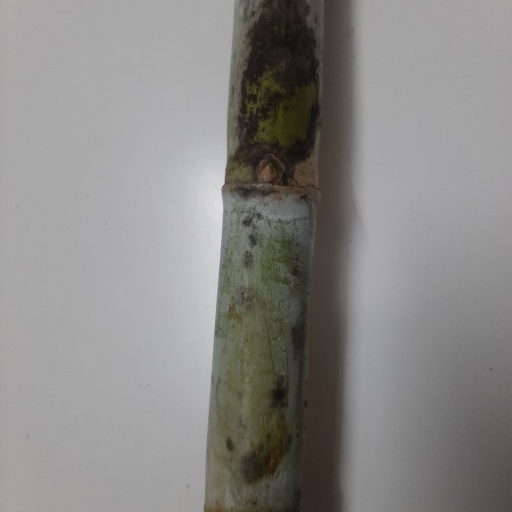Bud: (257, 156, 281, 185)
